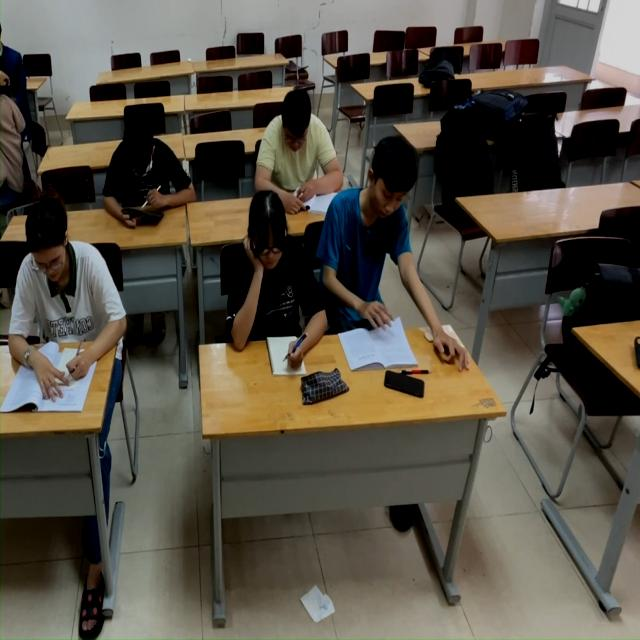read: (1, 192, 129, 420), (335, 142, 435, 387), (213, 197, 329, 390), (101, 108, 197, 235), (256, 91, 337, 214)
